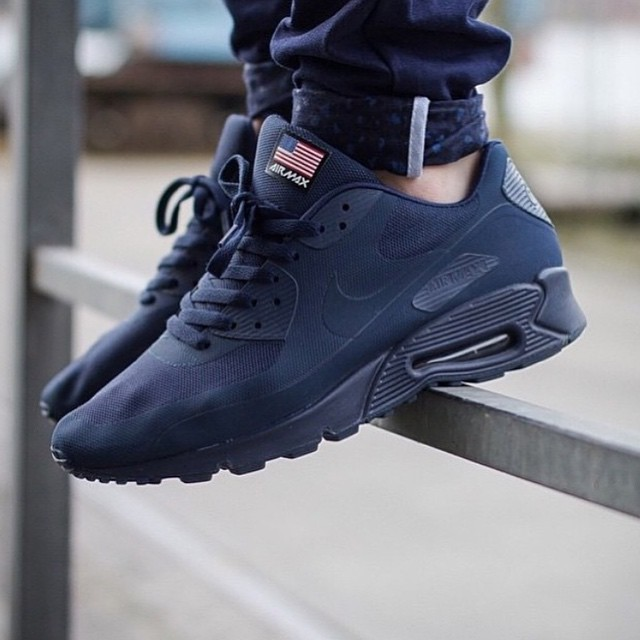sneaker: (25, 84, 608, 505), (25, 87, 297, 440)
